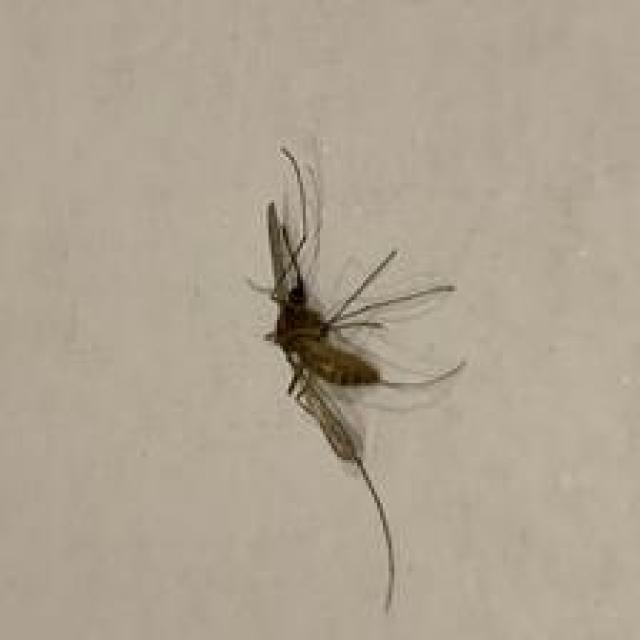Culex: (244, 144, 467, 613)
